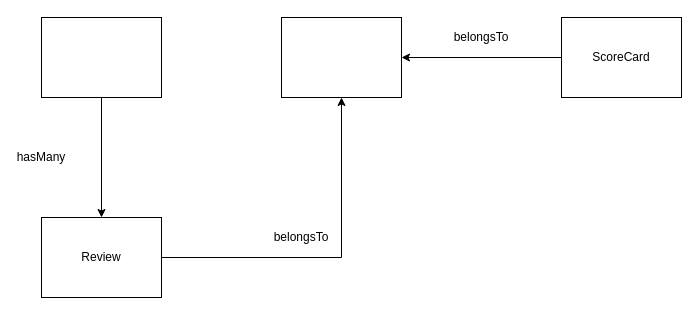
Some shapes in this 699 by 315 pixel diagram are drawn without their labels. Here are the shapes that lost their labels. From the top down, the centre of each, then its label:
At pixel 101 57: "Disc".
At pixel 341 57: "User".
